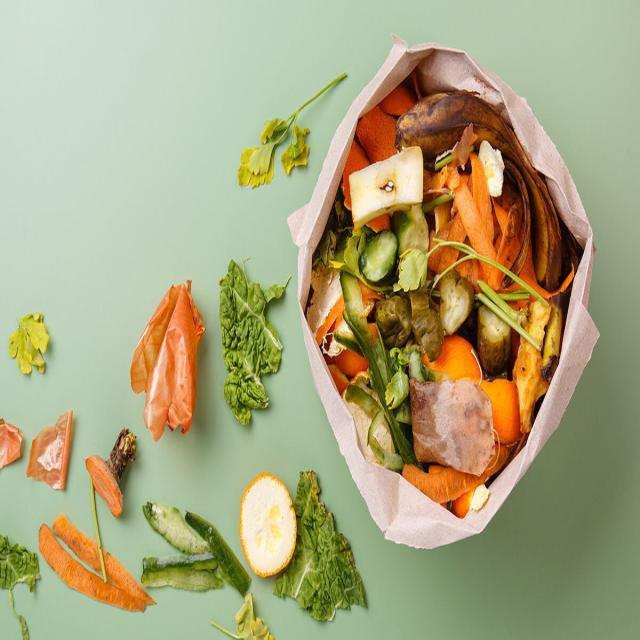Wet: (272, 472, 370, 625), (235, 73, 348, 189), (129, 277, 205, 442), (38, 511, 156, 614), (220, 257, 292, 423), (142, 503, 251, 600), (350, 146, 424, 230), (240, 472, 298, 576), (87, 428, 136, 518), (0, 535, 42, 640), (25, 412, 75, 492), (212, 590, 275, 638), (7, 309, 49, 375), (480, 298, 514, 377), (437, 272, 476, 336), (359, 232, 398, 289), (0, 415, 22, 472)
